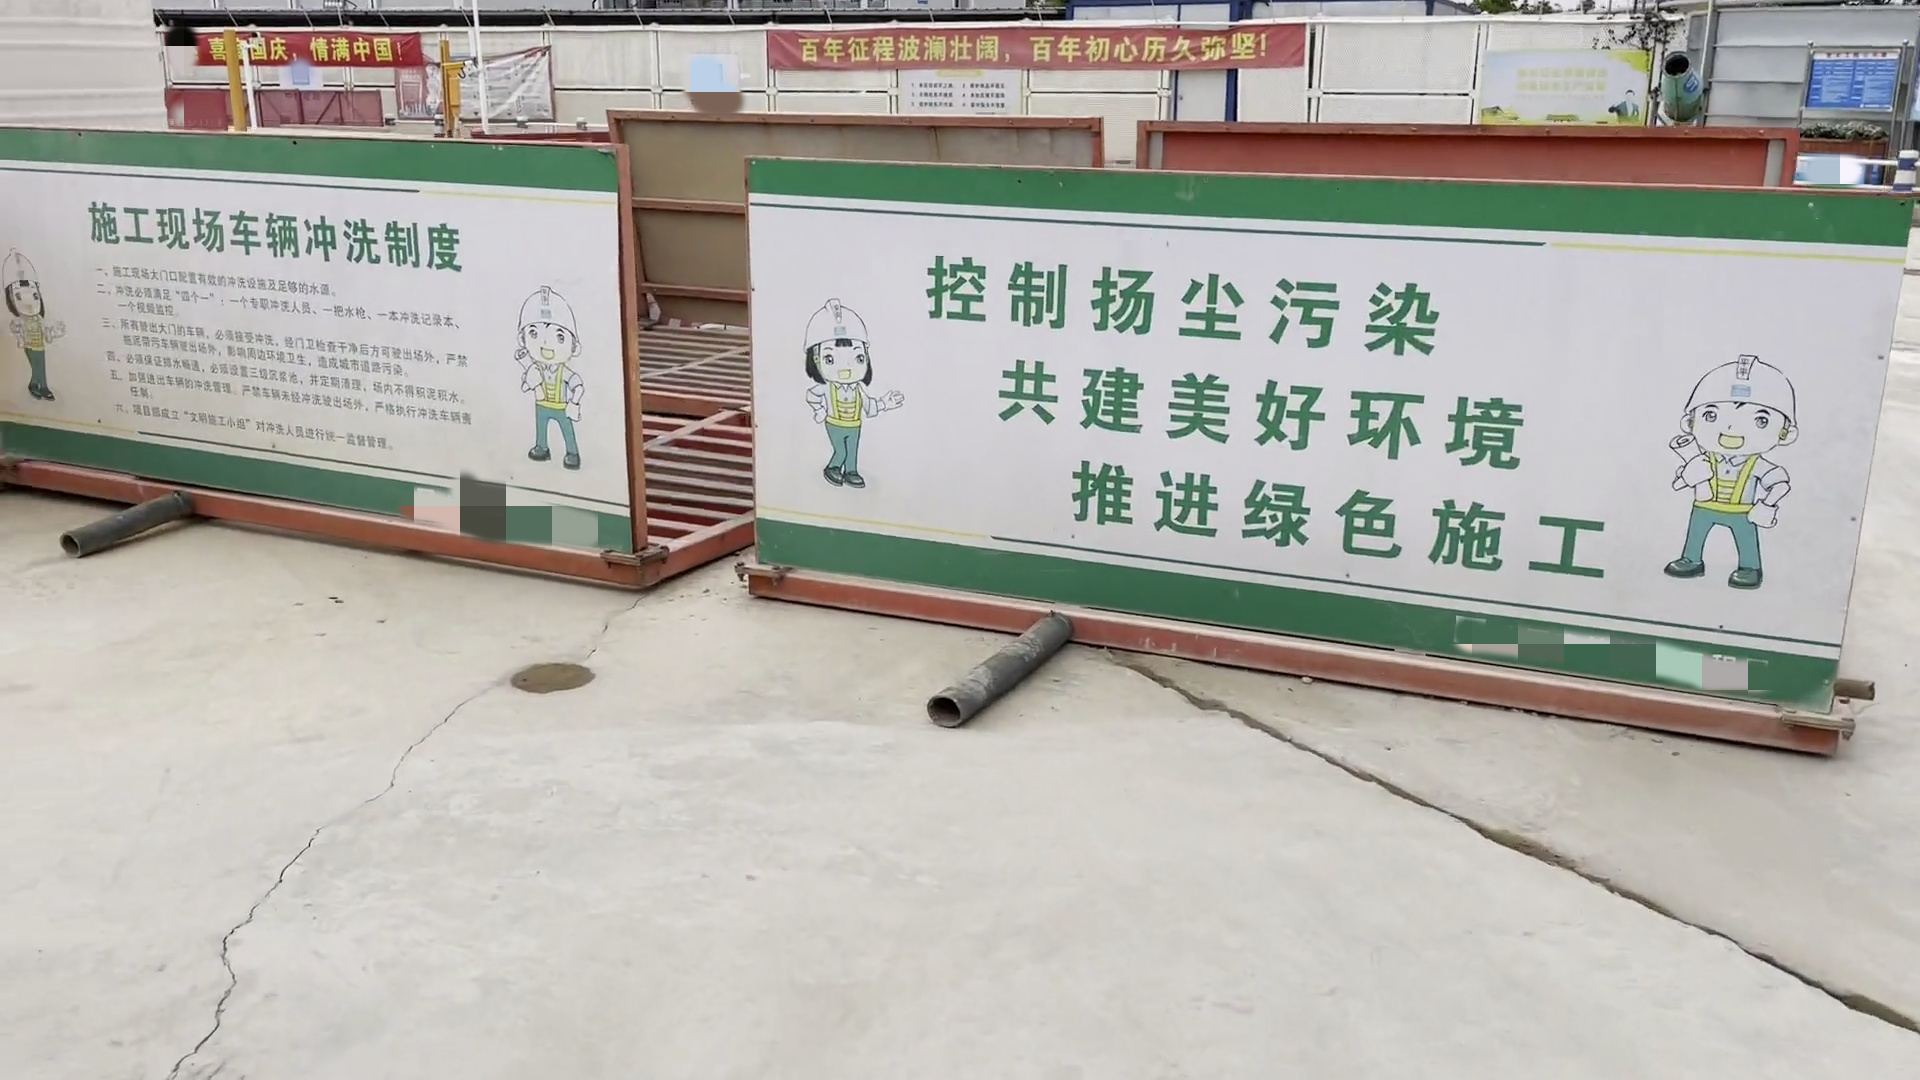slogan: (733, 214, 1899, 645), (46, 175, 595, 458), (767, 13, 1313, 76), (199, 36, 417, 71)
